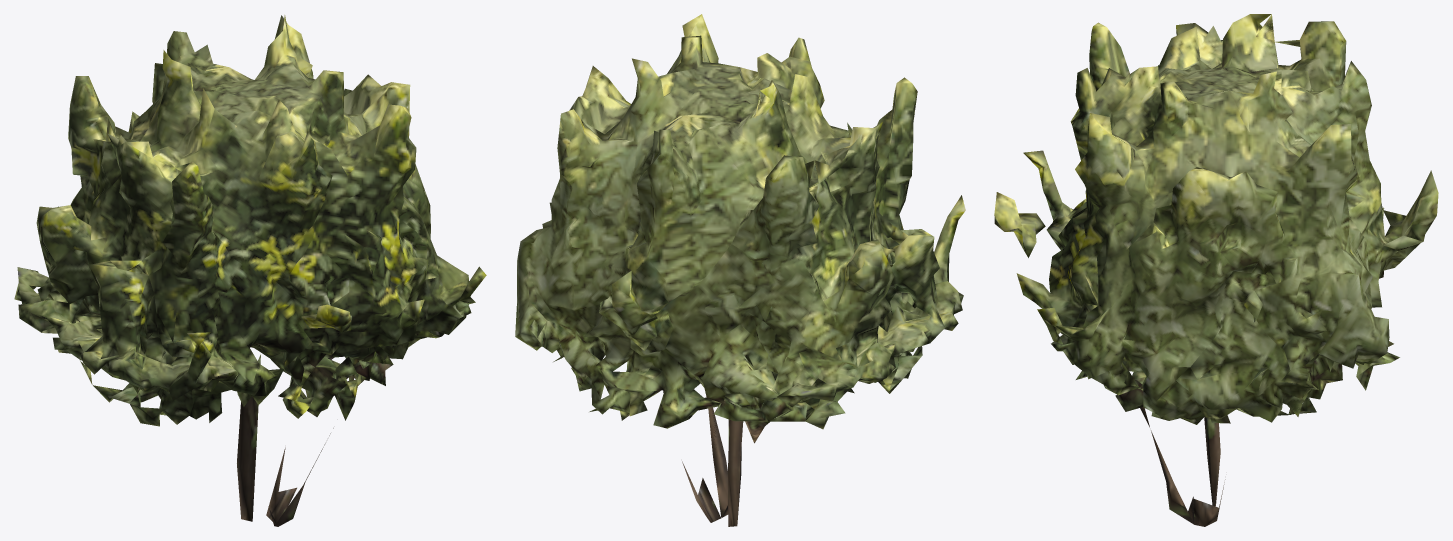
Rendered from Bush1.glb.
The picture shows the model from 3 angles, left to right: view 1: azimuth 30°, elevation 25°; view 2: azimuth 150°, elevation 25°; view 3: azimuth 270°, elevation 25°; orthographic projection.
Visible parts, largest first — view 1: input; view 2: input; view 3: input.
Part boxes in pixels (x1,y1,x2,y2): input: (14,15,486,526); input: (515,14,965,526); input: (994,14,1438,526).
Bounding box in the file's own units: 0.6877 × 0.8643 × 0.7296.
Materials: 1 (1 with a texture image).
